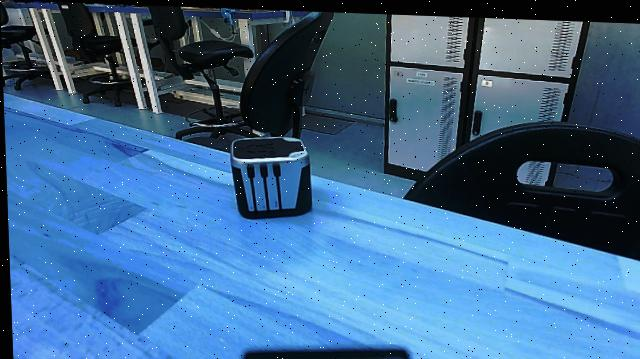adapter: (223, 134, 317, 222)
